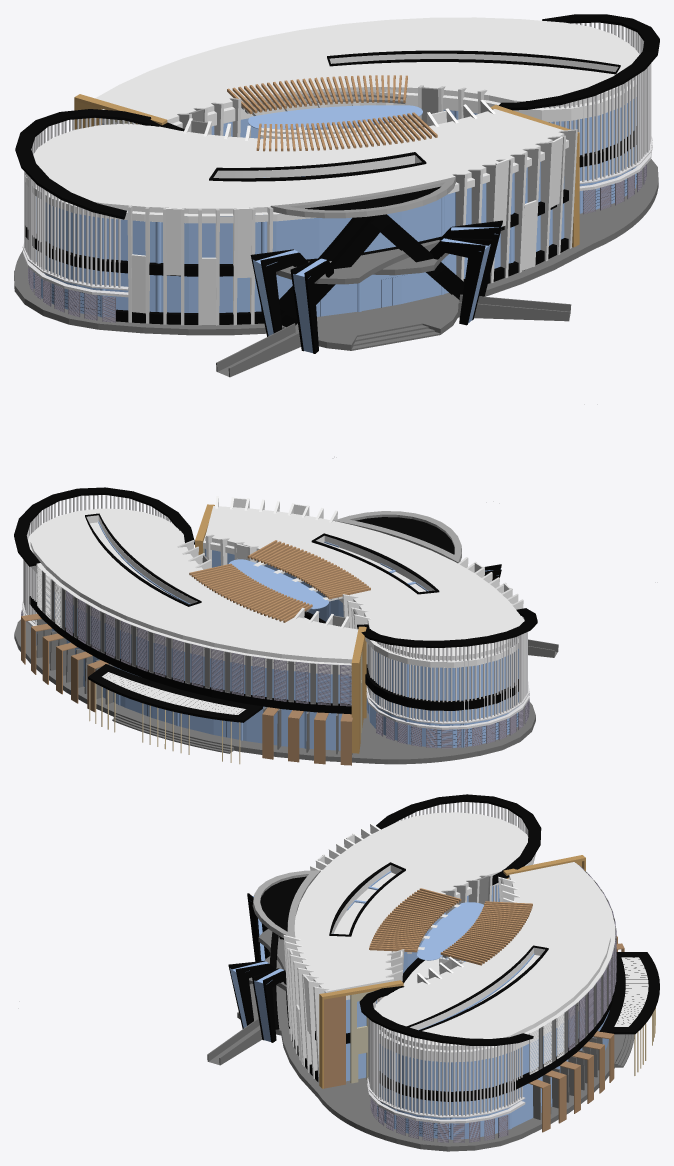
The model's file is Enhance_Model.glb.
3 views of the same model, one above another, from view 1: azimuth 30°, elevation 25°; view 2: azimuth 150°, elevation 25°; view 3: azimuth 270°, elevation 25° (orthographic). The views are drawn at different scales.
Visible parts, largest first — view 1: Model, BaseFloor; view 2: Model, BaseFloor; view 3: Model, BaseFloor.
Boxes of the visible parts, bbox=[...] form: Model: bbox=[14, 14, 659, 377]; BaseFloor: bbox=[14, 159, 658, 329]; Model: bbox=[14, 487, 558, 765]; BaseFloor: bbox=[14, 619, 535, 759]; Model: bbox=[207, 794, 659, 1151]; BaseFloor: bbox=[280, 996, 625, 1146].
Bounding box in the file's own units: 63.78 × 14.21 × 70.54.
